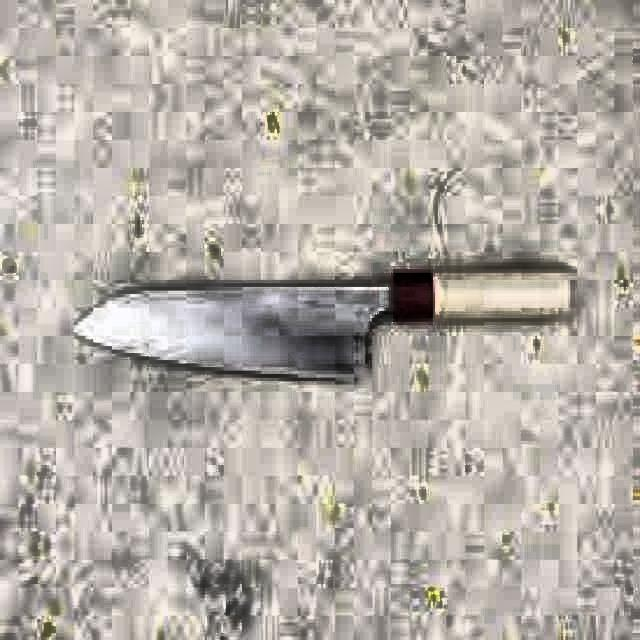knife: (72, 260, 583, 398)
